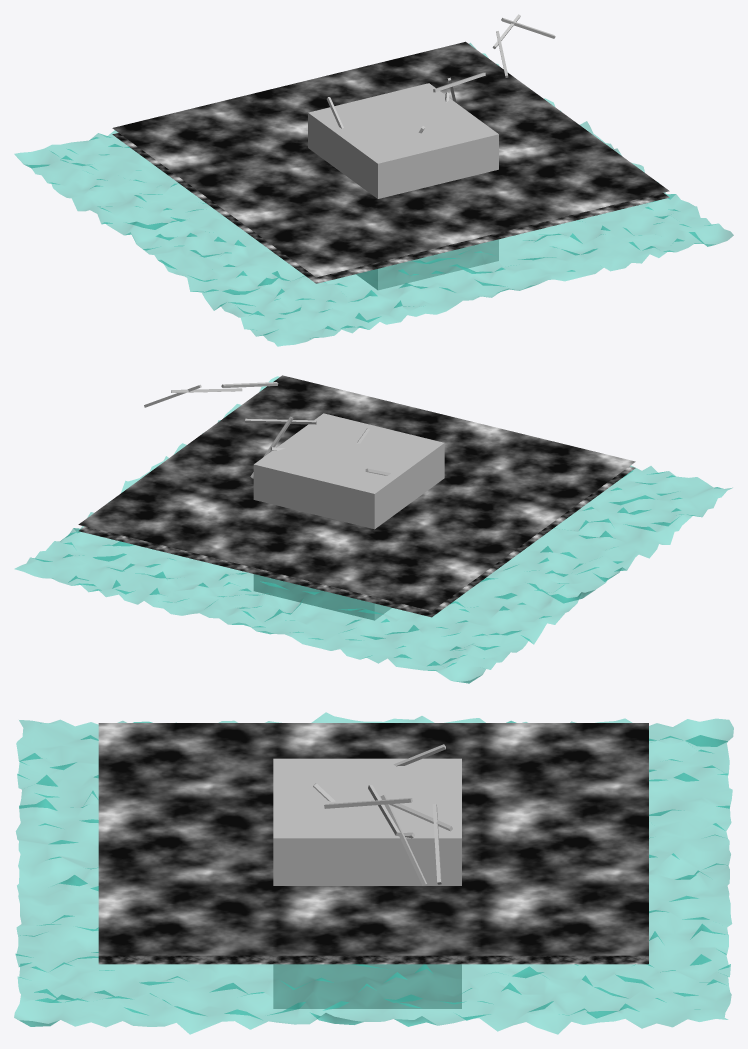
The picture shows the model from 3 angles, top to bottom: view 1: azimuth 30°, elevation 25°; view 2: azimuth 150°, elevation 25°; view 3: azimuth 270°, elevation 25°; orthographic projection. The views are drawn at different scales.
Parts seen in each view (by area): view 1: Plane.003, Plane.001_Plane.002, Cube.002_Cube.04;visible=0, Plane.002_Plane.001, Cube.009_Cube.025; view 2: Plane.003, Plane.001_Plane.002, Cube.002_Cube.04;visible=0, Plane.002_Plane.001, Cube.009_Cube.025; view 3: Plane.003, Plane.001_Plane.002, Cube.002_Cube.04;visible=0, Plane.002_Plane.001, Cube.009_Cube.025.
Part boxes in pixels (x1,y1,x2,y2): Plane.003: [112, 41, 669, 277]; Plane.001_Plane.002: [14, 43, 733, 346]; Cube.002_Cube.04;visible=0: [308, 83, 498, 290]; Plane.002_Plane.001: [112, 133, 669, 283]; Cube.009_Cube.025: [326, 14, 555, 133]; Plane.003: [78, 375, 635, 610]; Plane.001_Plane.002: [15, 376, 732, 683]; Cube.002_Cube.04;visible=0: [253, 413, 444, 620]; Plane.002_Plane.001: [78, 466, 635, 617]; Cube.009_Cube.025: [144, 382, 390, 478]; Plane.003: [98, 723, 648, 955]; Plane.001_Plane.002: [14, 712, 733, 1034]; Cube.002_Cube.04;visible=0: [273, 758, 461, 1008]; Plane.002_Plane.001: [98, 955, 648, 964]; Cube.009_Cube.025: [313, 744, 452, 885].
Size of the model in its own units: 123220 by 46657 by 123026.
